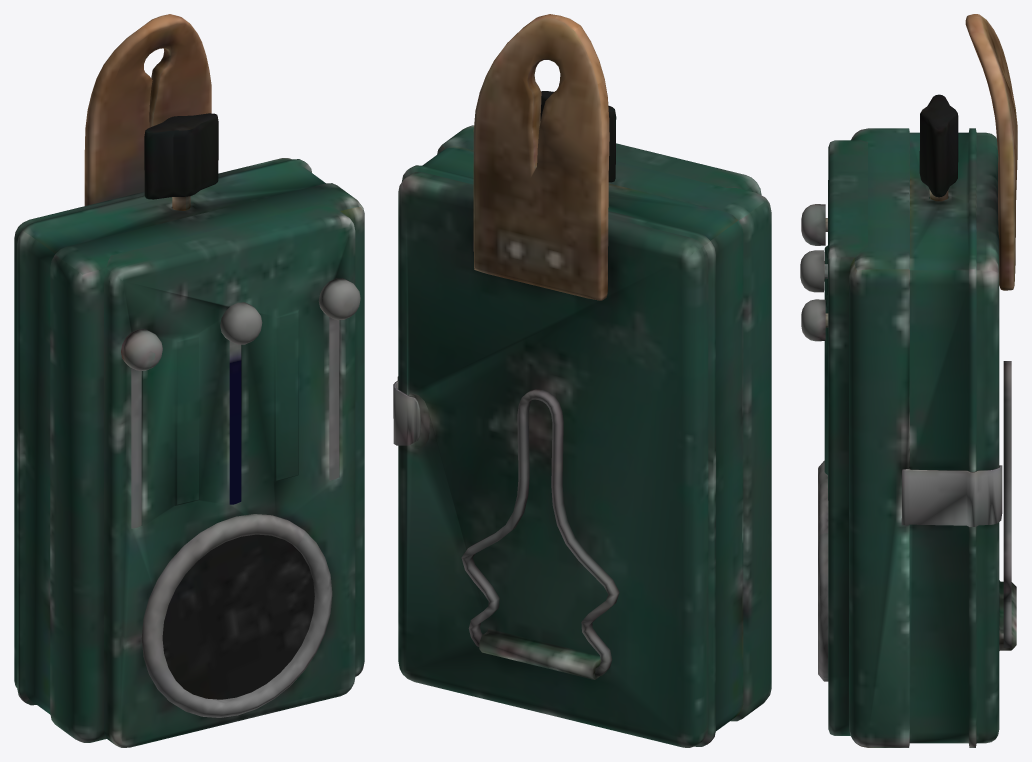
Rendered from p_signal_flashlight.glb.
3 views of the same model, side by side, from view 1: azimuth 30°, elevation 25°; view 2: azimuth 150°, elevation 25°; view 3: azimuth 270°, elevation 25° (orthographic). The views are drawn at different scales.
Visible parts, largest first — view 1: signal_flashlight_clip, signal_flashlight; view 2: signal_flashlight_clip; view 3: signal_flashlight_clip.
Part boxes in pixels (box(x1,y1,x2,y2)): signal_flashlight_clip: box(14, 14, 364, 747); signal_flashlight: box(162, 358, 314, 699); signal_flashlight_clip: box(393, 14, 771, 747); signal_flashlight_clip: box(800, 14, 1017, 747).
Bounding box in the file's own units: 0.071 × 0.1499 × 0.0445.
Materials: 2 (2 with a texture image).
